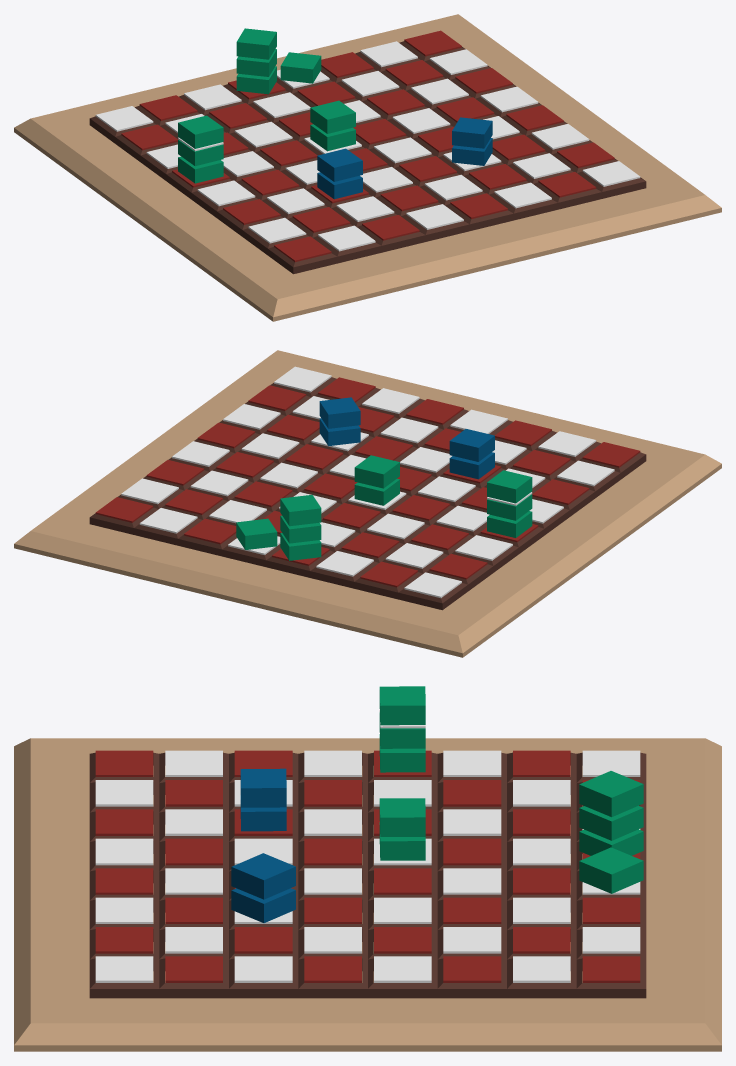
The model's file is chess11.gltf.
3 views of the same model, one above another, from view 1: azimuth 30°, elevation 25°; view 2: azimuth 150°, elevation 25°; view 3: azimuth 270°, elevation 25° (orthographic). The views are drawn at different scales.
Visible parts, largest first — view 1: board_base, Cylinder.012, Cylinder.008, Cylinder.006, Cylinder.013, Cylinder.009, Cylinder.003, tile.010, tile.030, tile.053, tile.029, tile.035 (+63 smaller); view 2: board_base, Cylinder.008, Cylinder.012, Cylinder.006, Cylinder.003, Cylinder.009, Cylinder.013, tile.004, tile.011, tile.022, tile.038, tile.040 (+61 smaller); view 3: board_base, Cylinder.009, Cylinder.013, Cylinder.003, Cylinder.012, Cylinder.006, Cylinder.008, tile.017, tile.043, tile.003, tile.025, tile.042 (+95 smaller).
Boxes of the visible parts, box(x1,y1,x2,y2) form: board_base: box(14, 14, 721, 321); Cylinder.012: box(178, 115, 223, 148); Cylinder.008: box(310, 100, 355, 133); Cylinder.006: box(317, 148, 362, 181); Cylinder.013: box(280, 52, 321, 83); Cylinder.009: box(452, 117, 492, 148); Cylinder.003: box(236, 28, 276, 59); tile.010: box(480, 86, 538, 112); tile.030: box(385, 60, 443, 85); tile.053: box(538, 172, 596, 197); tile.029: box(429, 49, 487, 74); tile.035: box(139, 95, 197, 120); board_base: box(14, 350, 721, 657); Cylinder.008: box(354, 455, 399, 488); Cylinder.012: box(487, 470, 532, 503); Cylinder.006: box(449, 429, 494, 461); Cylinder.003: box(280, 494, 321, 526); Cylinder.009: box(319, 397, 360, 428); Cylinder.013: box(236, 518, 277, 549); tile.004: box(392, 495, 450, 520); tile.011: box(197, 422, 255, 448); tile.022: box(190, 470, 248, 496); tile.038: box(139, 508, 197, 533); tile.040: box(380, 417, 438, 443); board_base: box(14, 738, 721, 1051); Cylinder.009: box(231, 853, 295, 899); Cylinder.013: box(579, 847, 643, 893); Cylinder.003: box(579, 771, 643, 817); Cylinder.012: box(379, 686, 425, 725); Cylinder.006: box(240, 768, 286, 807); Cylinder.008: box(379, 798, 425, 836); tile.017: box(443, 838, 501, 865); tile.043: box(95, 838, 153, 865); tile.003: box(304, 838, 361, 865); tile.025: box(513, 838, 570, 865); tile.042: box(165, 838, 222, 865).
Bounding box in the file's own units: 20.36 × 3.27 × 20.36.
